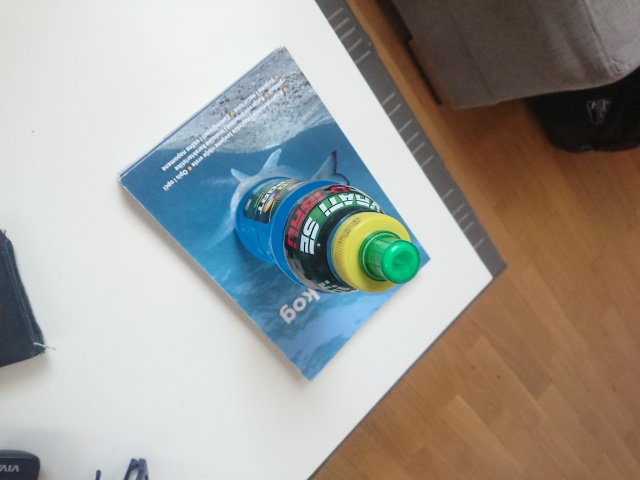Vindi Iso Sport Forest Strawberries 500mL: (231, 173, 422, 295)
